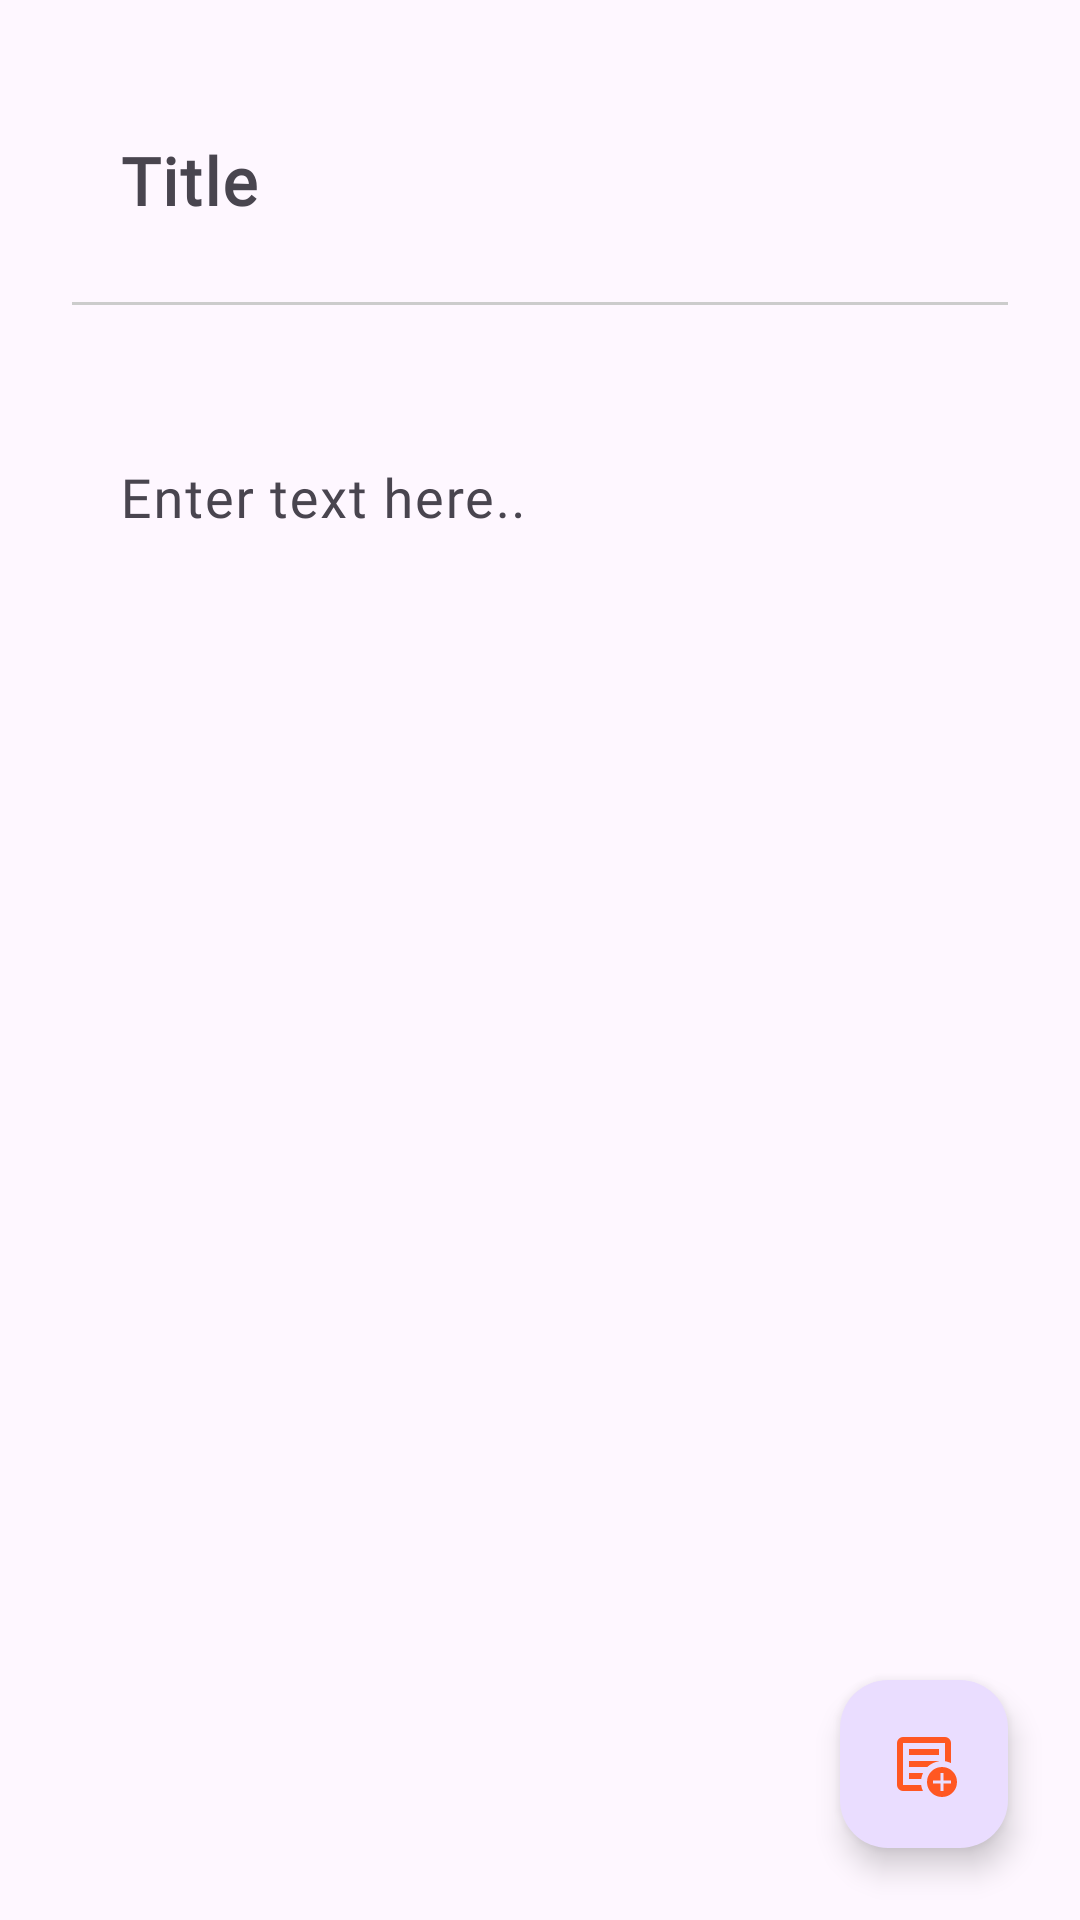

Where icons sit on this 1080 × 1920 app screen, as (x1, y1, x2, y2):
Save Note: (840, 1680, 1008, 1848)
